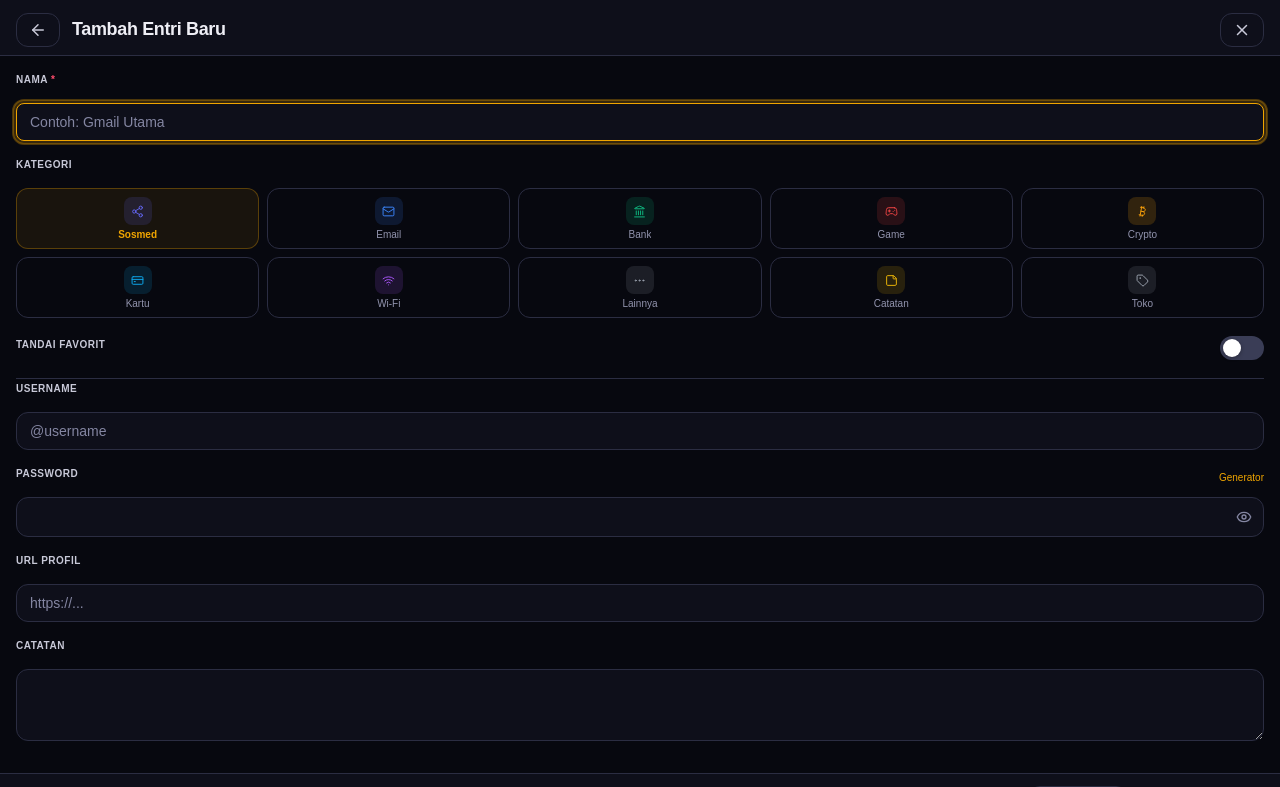
Test: EntryForm — Field kustom tipe "multi" (v1.10.1) › field bertipe multi muncul dengan label dan jumlah isian yang benar
This screenshot has width=1280, height=787.
Click the button titled "Toko" at (1142, 288), box 1021,257 -> 1264,318
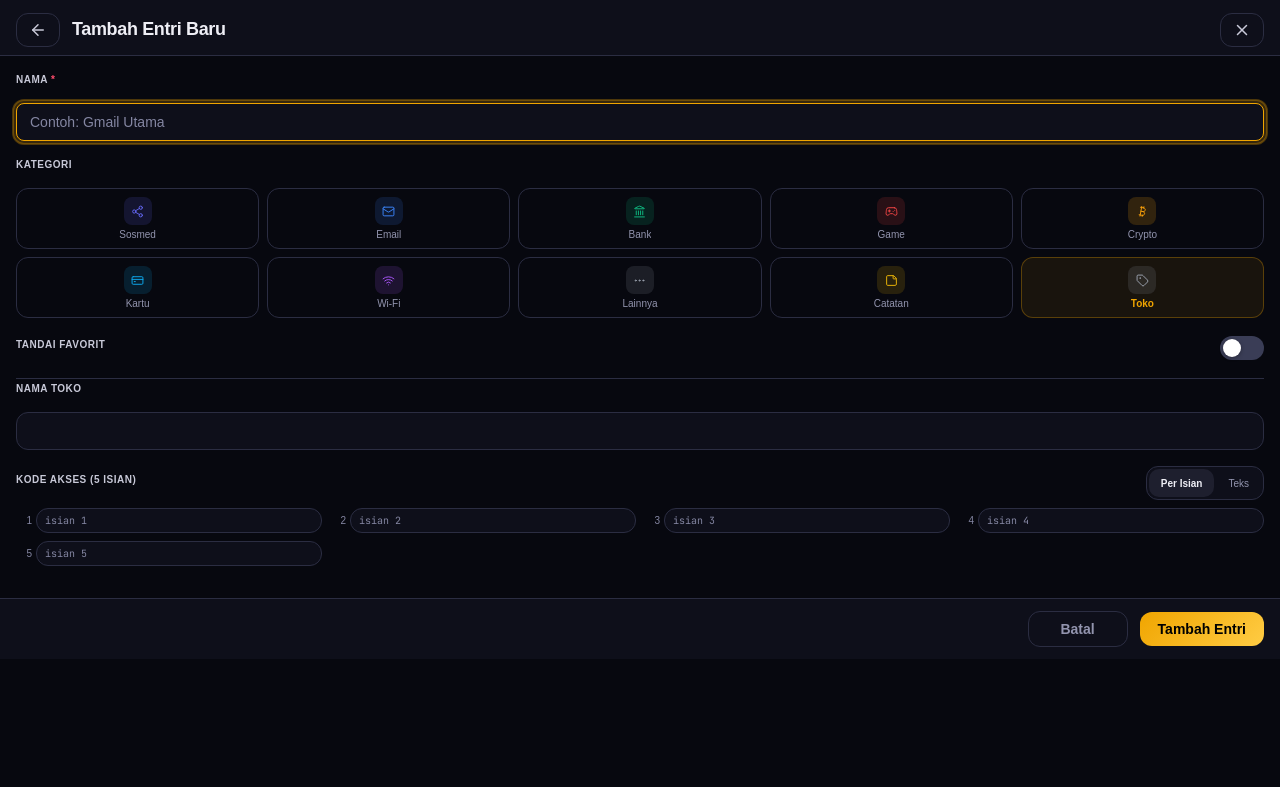
Check: the text "Kode Akses (5 isian)" is shown, box 16,472 -> 136,486
